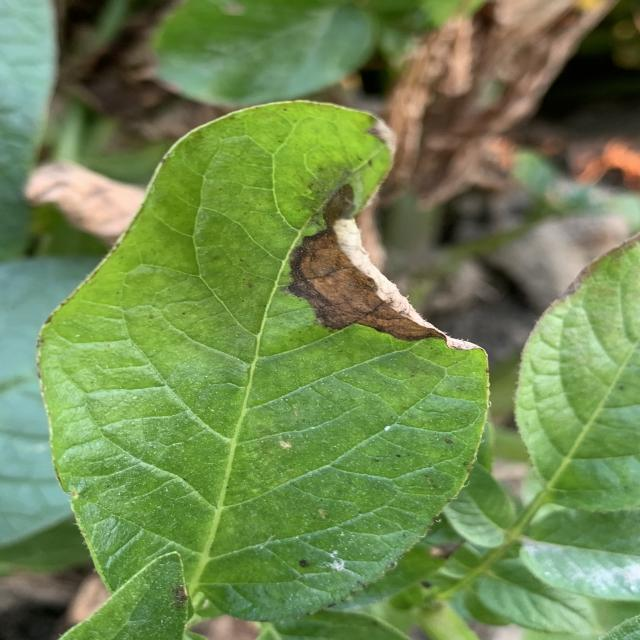lateblight: (288, 195, 478, 350)
